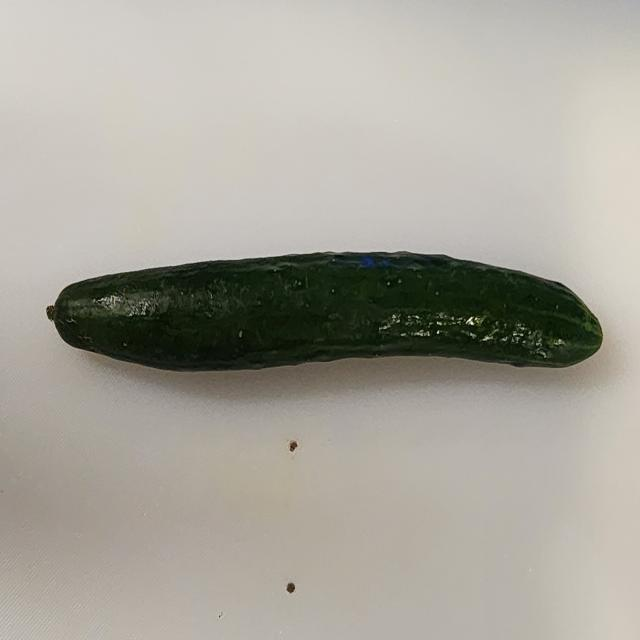cucumber: (46, 249, 603, 373)
